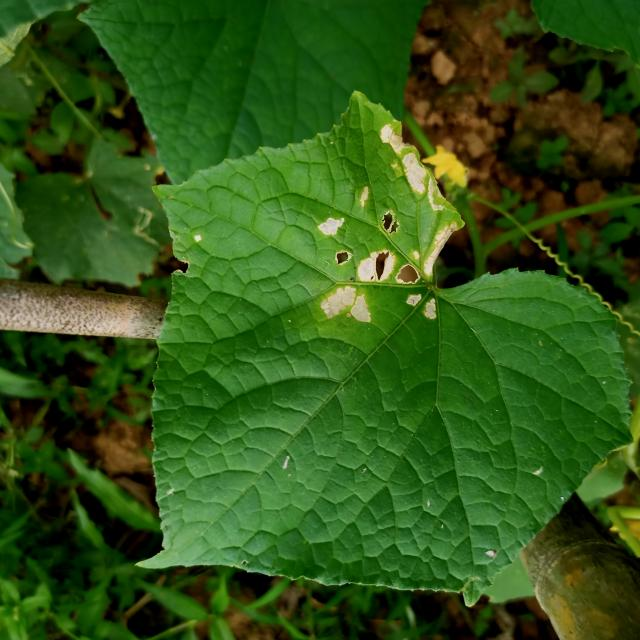disease_cucumber: (318, 122, 458, 326)
